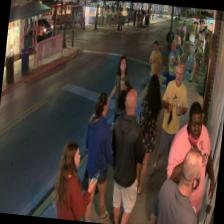person: (159, 99, 223, 224), (103, 87, 151, 224), (77, 91, 121, 224), (148, 61, 192, 180), (154, 144, 206, 224), (130, 72, 162, 194), (52, 140, 98, 220), (102, 54, 134, 164)
